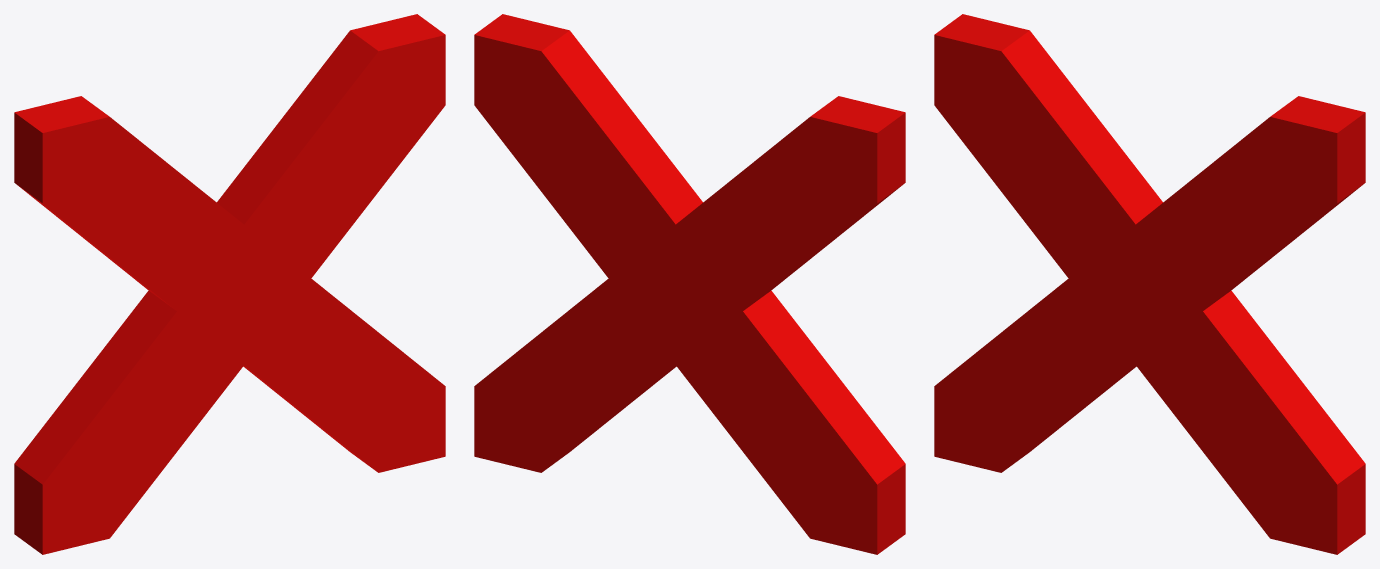
The model's file is cross.gltf.
3 views of the same model, side by side, from view 1: azimuth 30°, elevation 25°; view 2: azimuth 150°, elevation 25°; view 3: azimuth 330°, elevation 25° (orthographic).
Visible parts, largest first — view 1: Cube; view 2: Cube; view 3: Cube.
Part boxes in pixels (x1,y1,x2,y2): Cube: (14,14,445,554); Cube: (474,14,905,554); Cube: (934,14,1365,554).
Size of the model in its own units: 0.1103 by 0.1103 by 0.0135.
